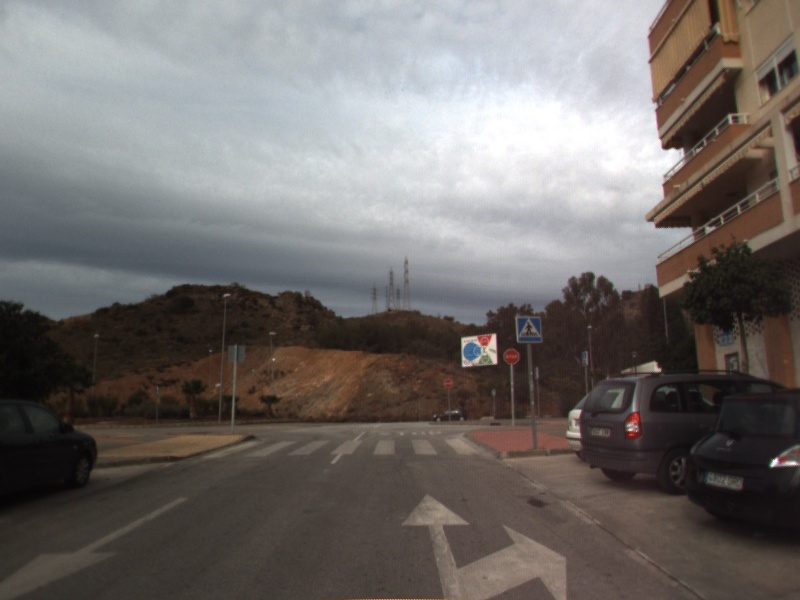STRAIGHT_RIGHT: (399, 491, 569, 600)
